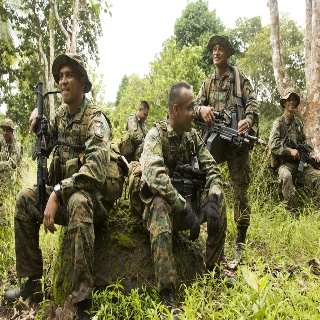rifle: (30, 81, 55, 227), (191, 106, 259, 149), (168, 162, 206, 207), (283, 136, 317, 174)
